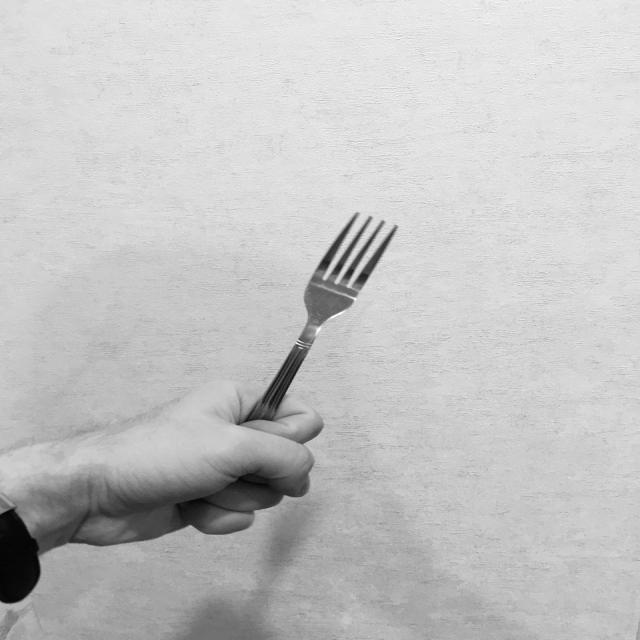fork: (236, 208, 404, 510)
